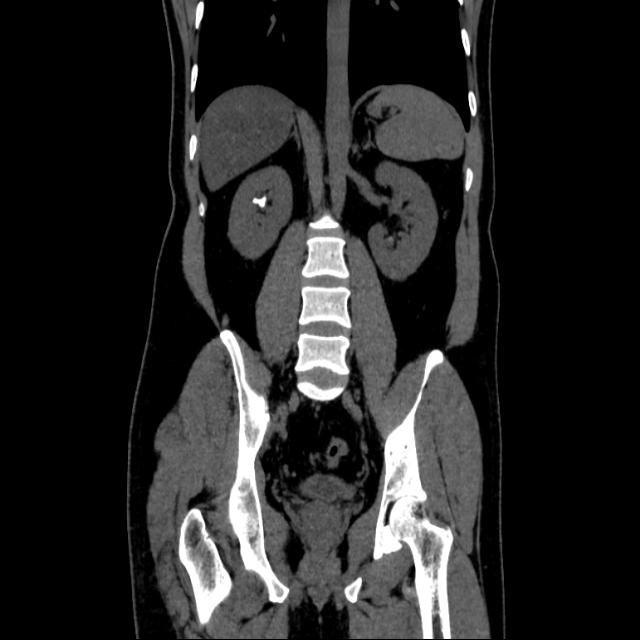kidneystone: (252, 196, 266, 207)
